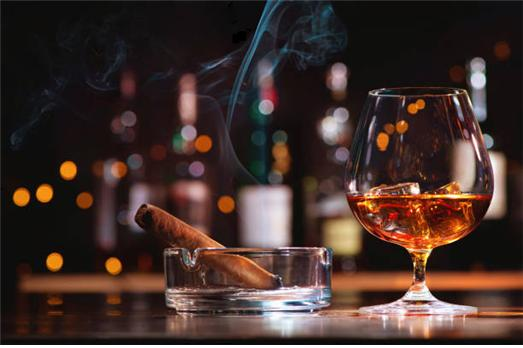alcohol: (344, 85, 496, 319)
cigarette: (137, 205, 285, 290)
